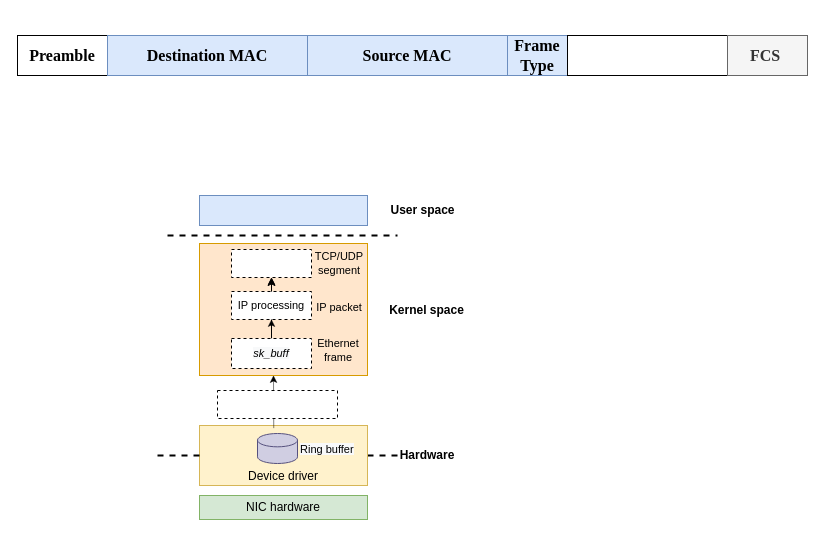
The diagram is 825 pixels wide and 537 high, and some of its shapes have lost their labels. Here are the shapes that lost their labels. From the top down, the centre of each, then its label:
At point 647,55: "Payload".
At point 283,210: "application".
At point 271,263: "TCP/UDP processing".
At point 277,404: "DMA (direct memory access)".
